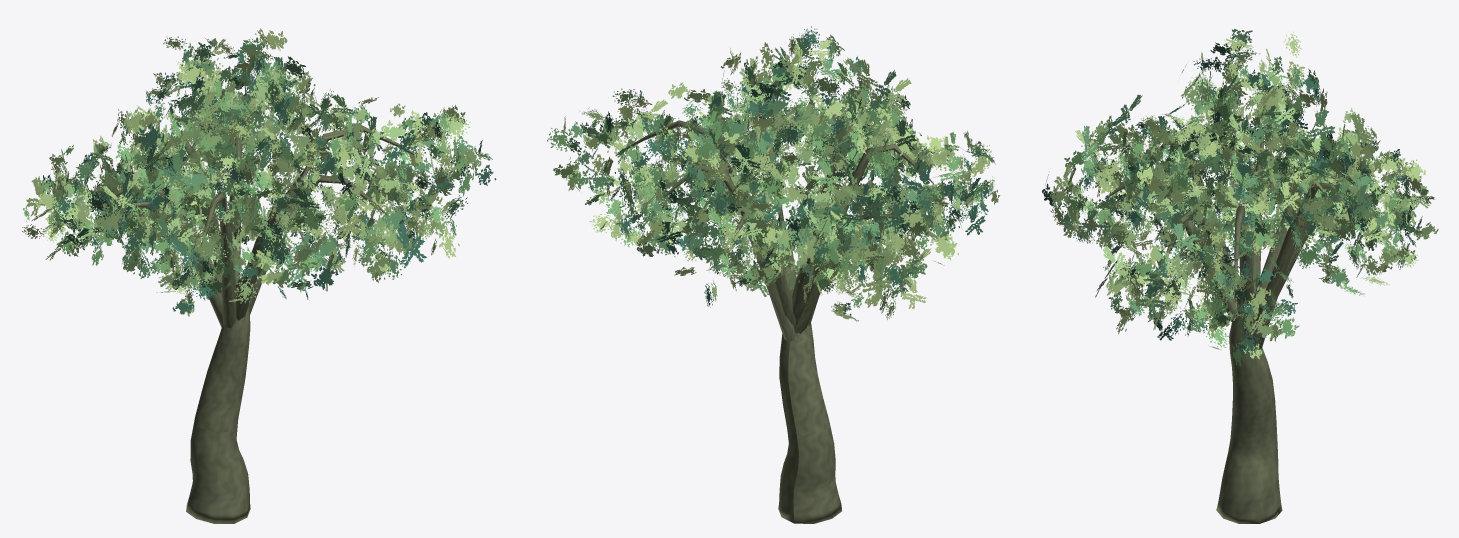
The model's file is Tree_River_02_Broad_Fork.glb.
3 views of the same model, side by side, from view 1: azimuth 30°, elevation 25°; view 2: azimuth 150°, elevation 25°; view 3: azimuth 270°, elevation 25° (orthographic).
Parts seen in each view (by area): view 1: Tree_River_02_Broad_Fork; view 2: Tree_River_02_Broad_Fork; view 3: Tree_River_02_Broad_Fork.
Part boxes in pixels (box(x1,y1,x2,y2)): Tree_River_02_Broad_Fork: box(22, 28, 496, 523); Tree_River_02_Broad_Fork: box(547, 26, 1000, 523); Tree_River_02_Broad_Fork: box(1042, 29, 1438, 523).
Size of the model in its own units: 7.29 by 7.84 by 5.95.
2 materials, 2 textured.
